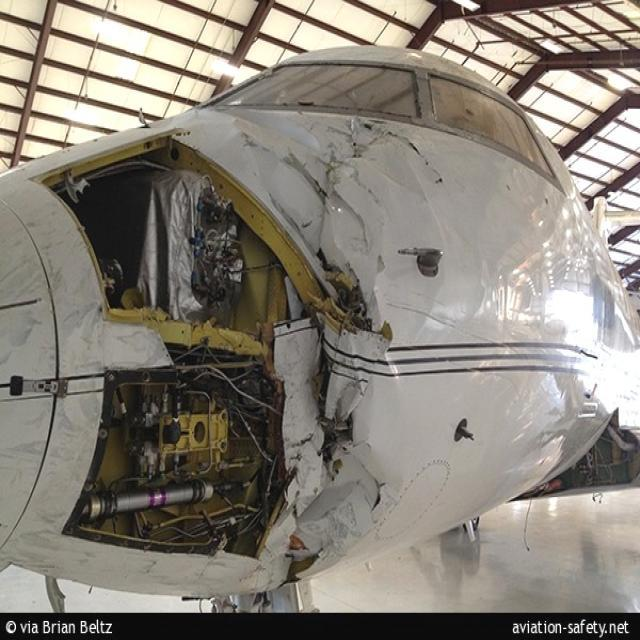crack: (351, 122, 447, 188), (340, 446, 389, 513)
dent: (340, 137, 448, 354), (211, 110, 328, 159)
